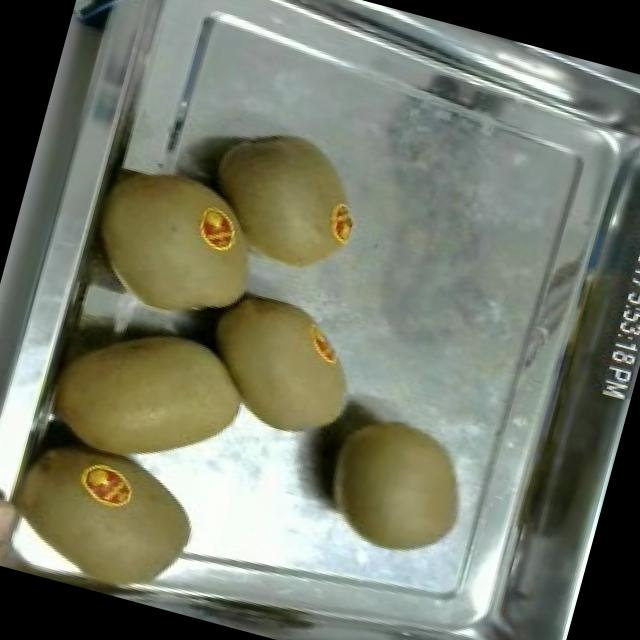Fruit: (39, 296, 264, 488), (72, 146, 280, 342), (0, 428, 216, 614), (182, 276, 376, 456), (188, 110, 380, 291), (303, 398, 484, 576), (65, 448, 148, 522), (0, 471, 41, 571)
